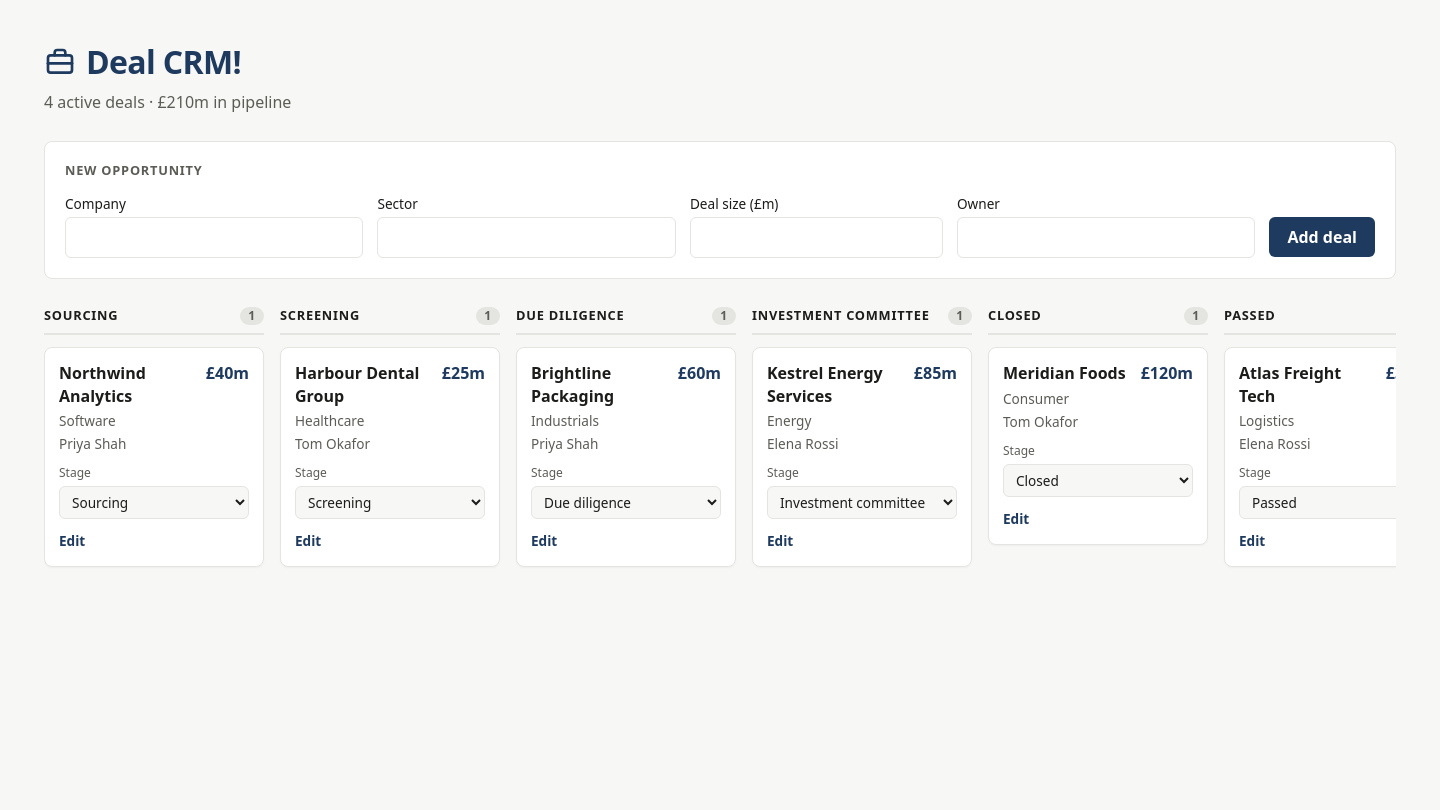
Test case: App › adds a deal to Sourcing, then moves it and passes on it
Type "Acme Logistics" into the field labelled "Company" at (214, 237), box [65, 217, 364, 258]
Type "Industrials" into the field labelled "Sector" at (527, 237), box [378, 217, 676, 258]
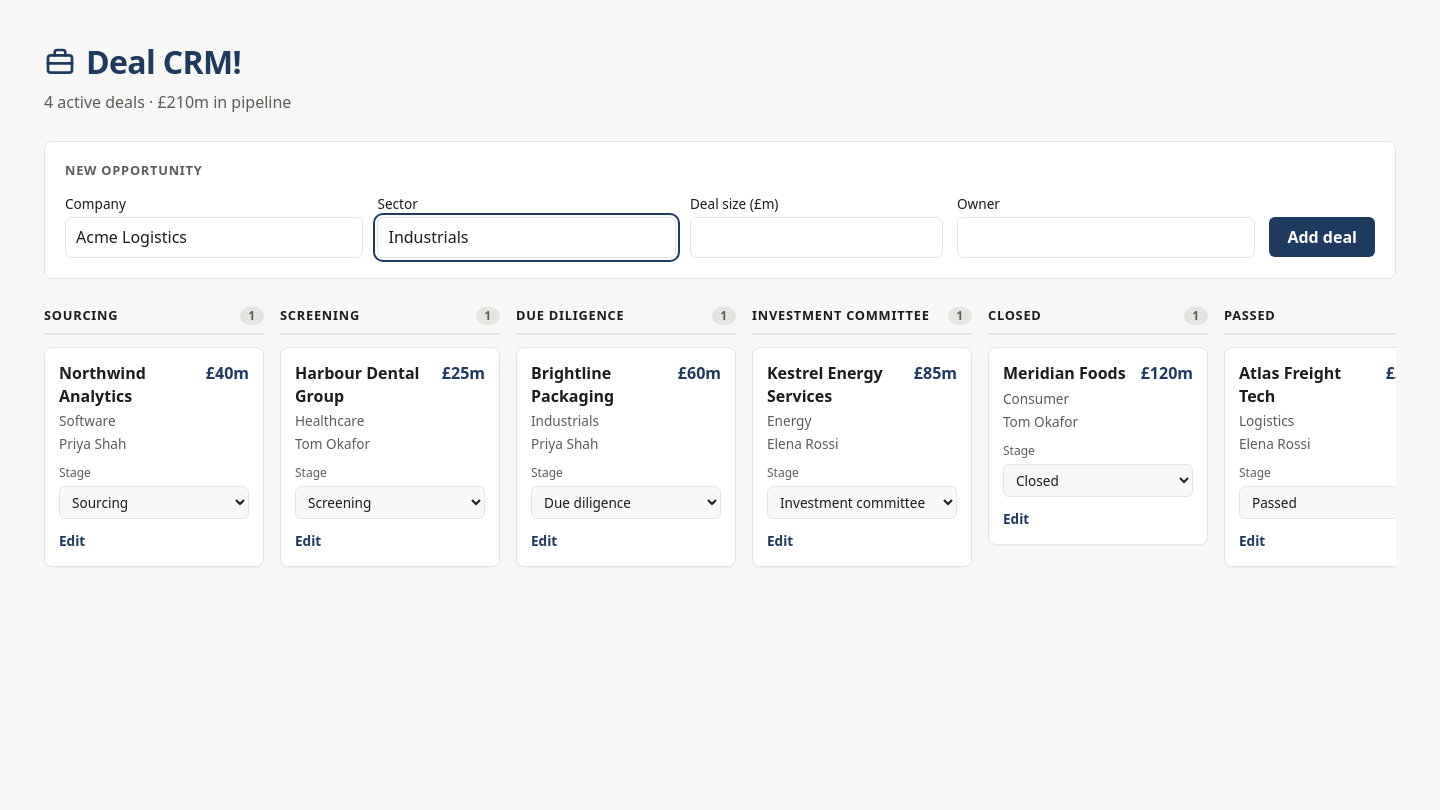
Type "45" into the field labelled "Deal size (£m)" at (816, 237), box [690, 217, 943, 258]
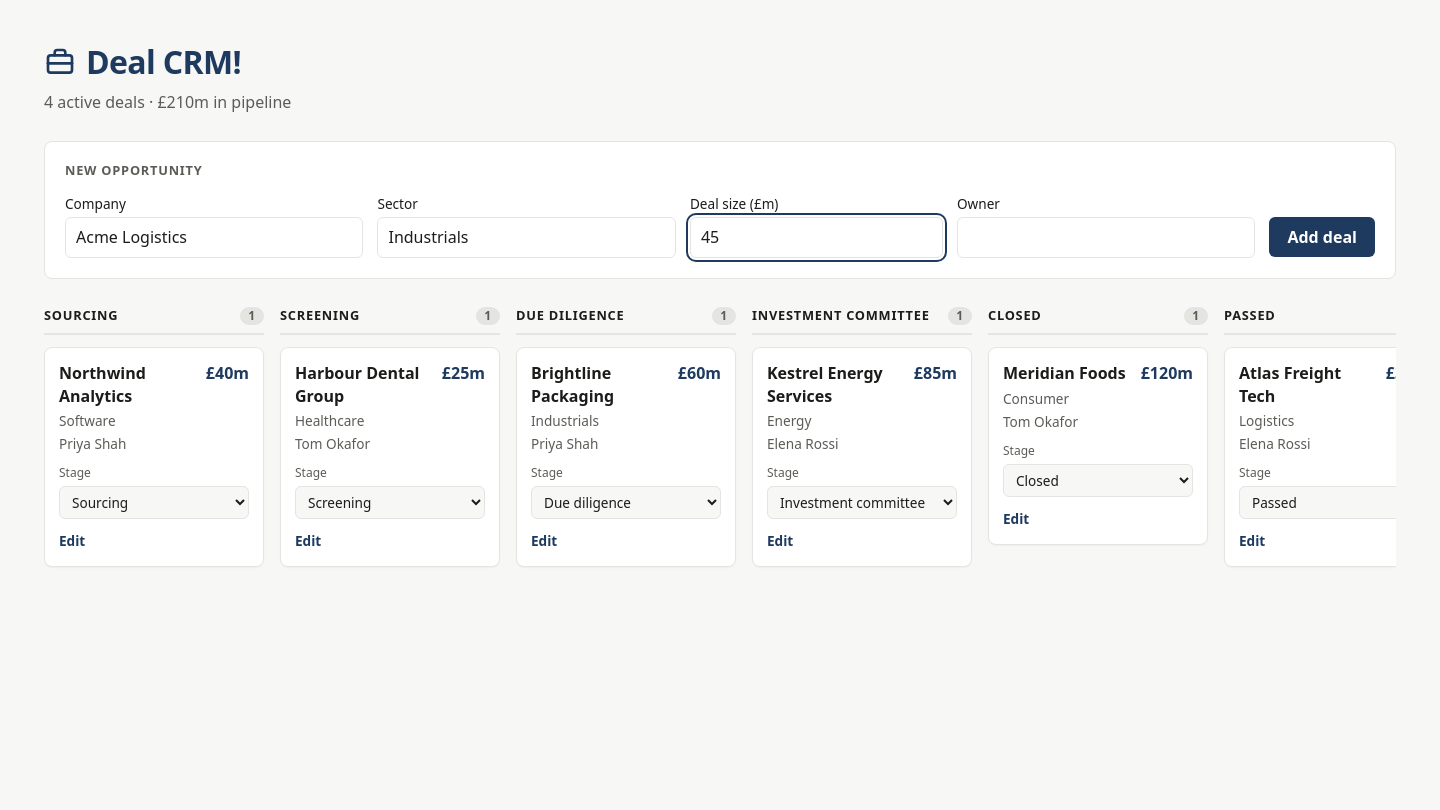
Type "Sam Patel" into the field labelled "Owner" at (1106, 237), box [957, 217, 1255, 258]
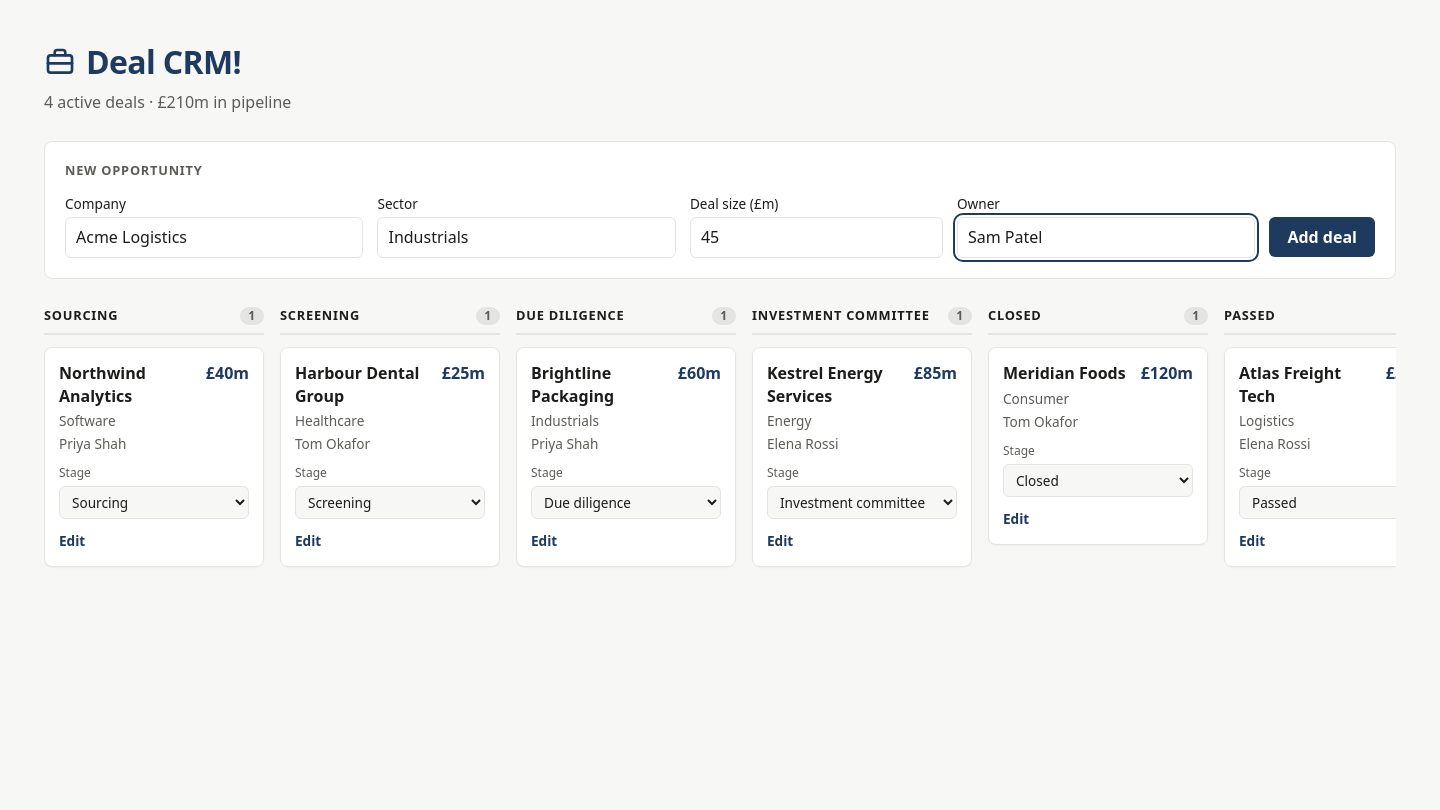
Click the button "Add deal" at (1322, 237), box [1269, 217, 1375, 258]
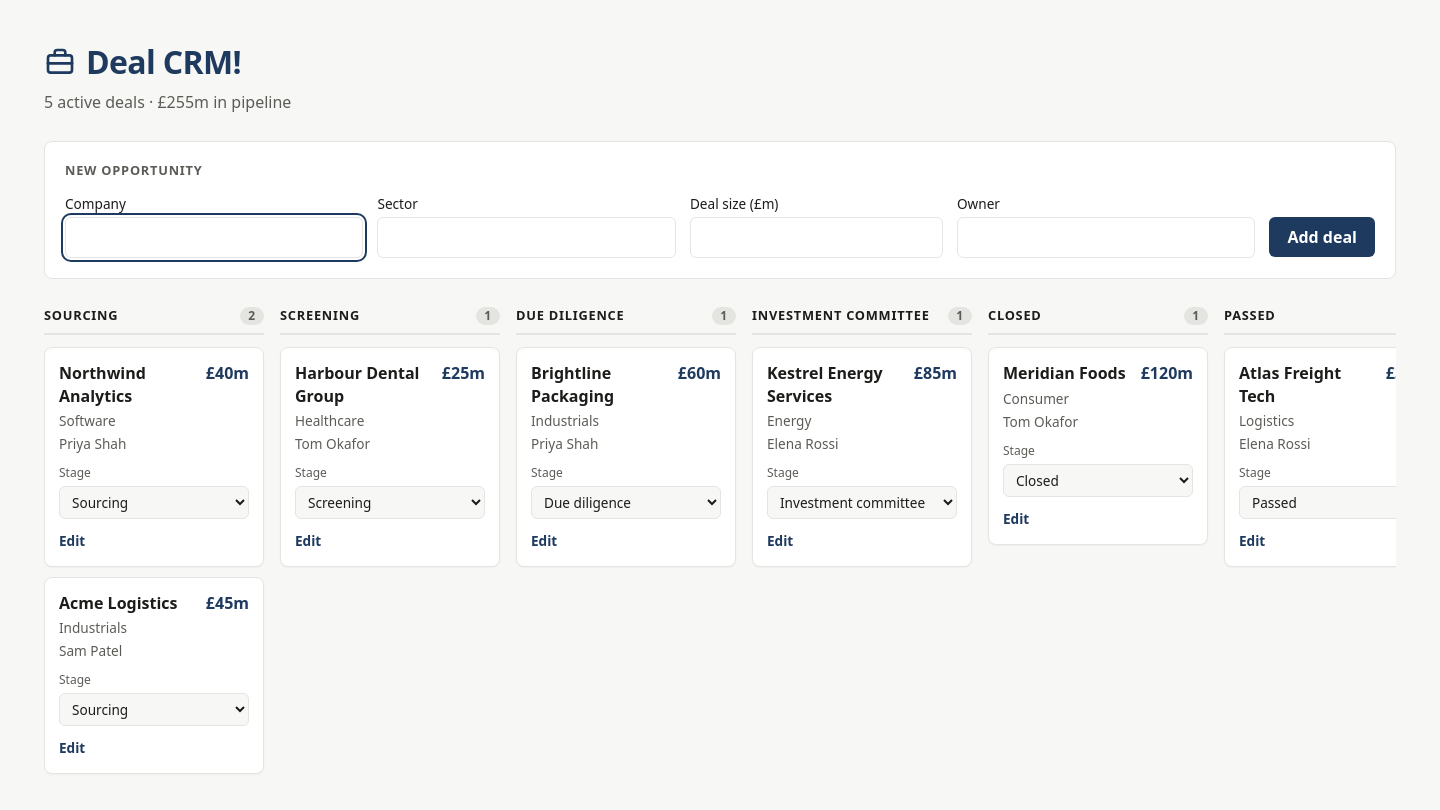
Check: the element "Acme Logistics" is shown, box [44, 577, 264, 774]
Check: the text "5 active deals · £255m in pipeline" is shown, box [44, 91, 291, 113]
Select "Due diligence" in the dropdown named "Stage for Acme Logistics" at (154, 710), box [59, 693, 249, 726]
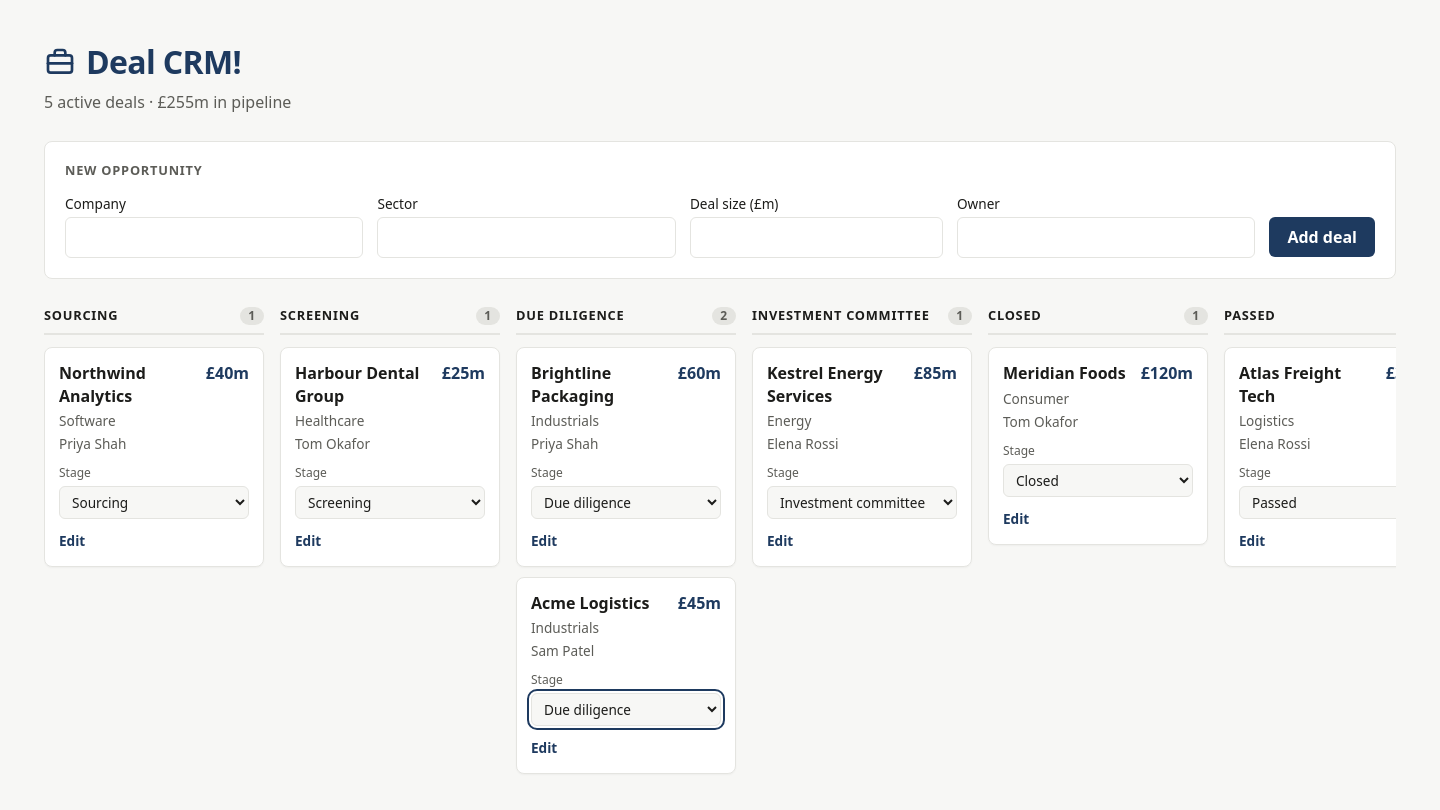
Check: the element "Acme Logistics" is shown, box [516, 577, 736, 774]
Select "Passed" in the dropdown named "Stage for Acme Logistics" at (626, 710), box [531, 693, 721, 726]
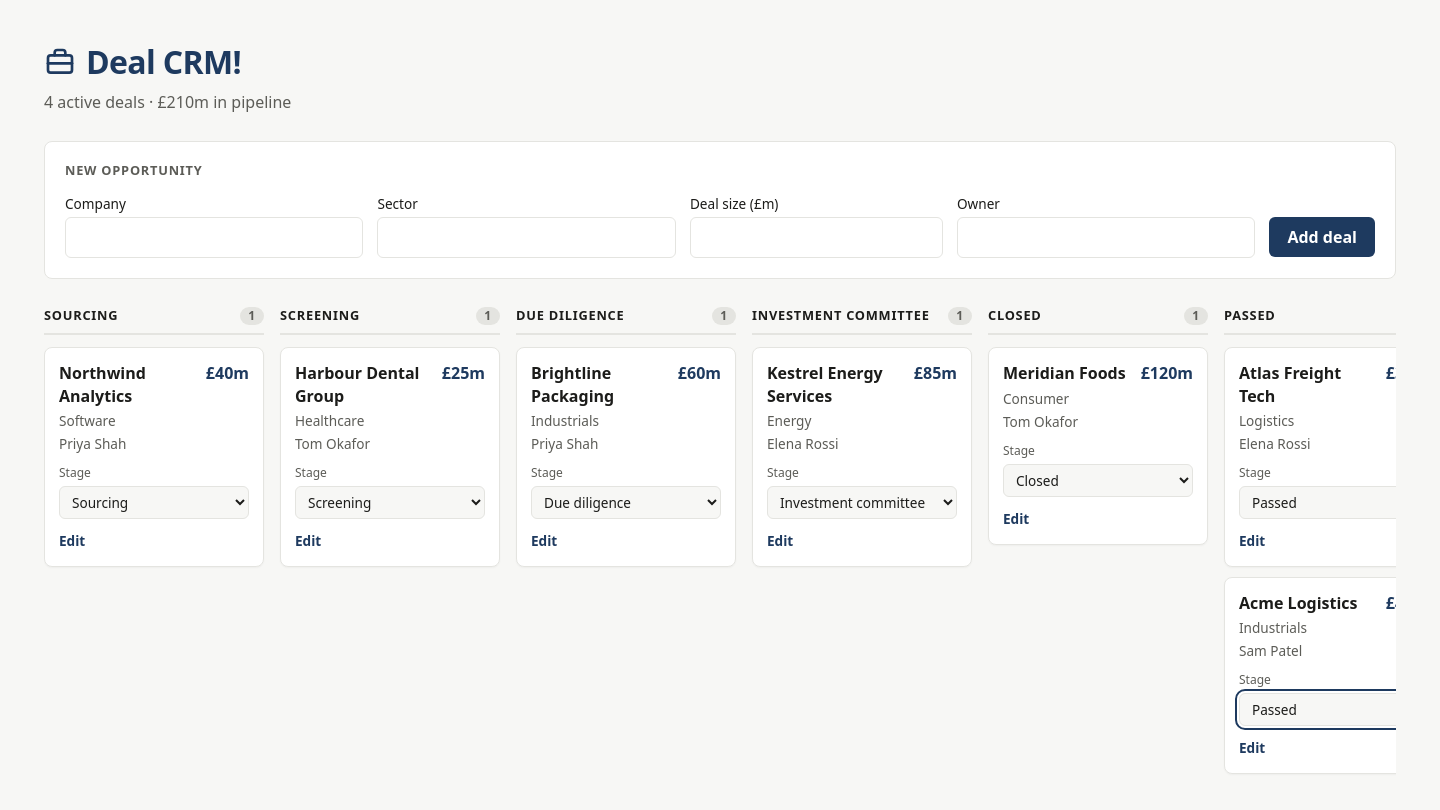
Check: the element "Acme Logistics" is shown, box [1224, 577, 1396, 774]
Check: the text "4 active deals · £210m in pipeline" is shown, box [44, 91, 291, 113]
